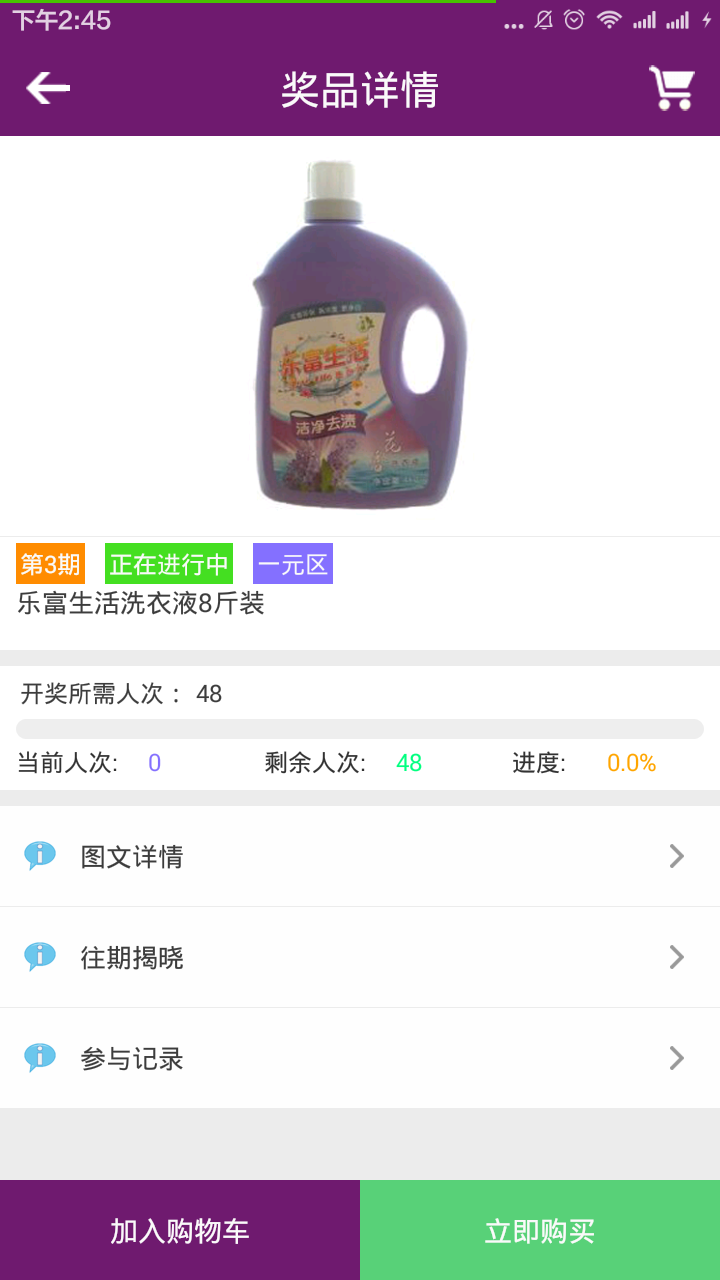button: (7, 1171, 360, 1280), (365, 1176, 720, 1277)
imgbutton: (632, 59, 699, 124)
imgview: (222, 152, 486, 524)
textview: (6, 537, 720, 648), (11, 816, 643, 908), (7, 746, 720, 797)
